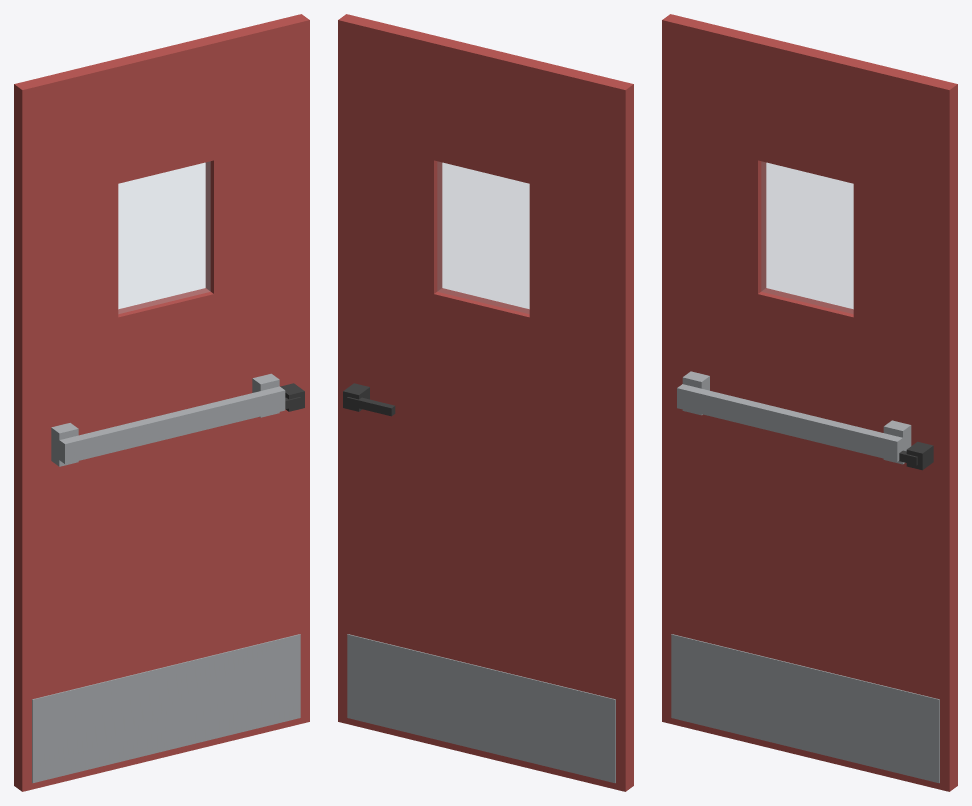
The model's file is mlo_door_fire_exit.glb.
3 views of the same model, side by side, from view 1: azimuth 30°, elevation 25°; view 2: azimuth 150°, elevation 25°; view 3: azimuth 330°, elevation 25° (orthographic).
Parts seen in each view (by area): view 1: Door_Fire_Exit; view 2: Door_Fire_Exit; view 3: Door_Fire_Exit.
Part boxes in pixels (x1,y1,x2,y2): Door_Fire_Exit: (14,14,309,791); Door_Fire_Exit: (338,14,633,791); Door_Fire_Exit: (662,14,957,791).
Bounding box in the file's own units: 0.9 × 2.1 × 0.185.
